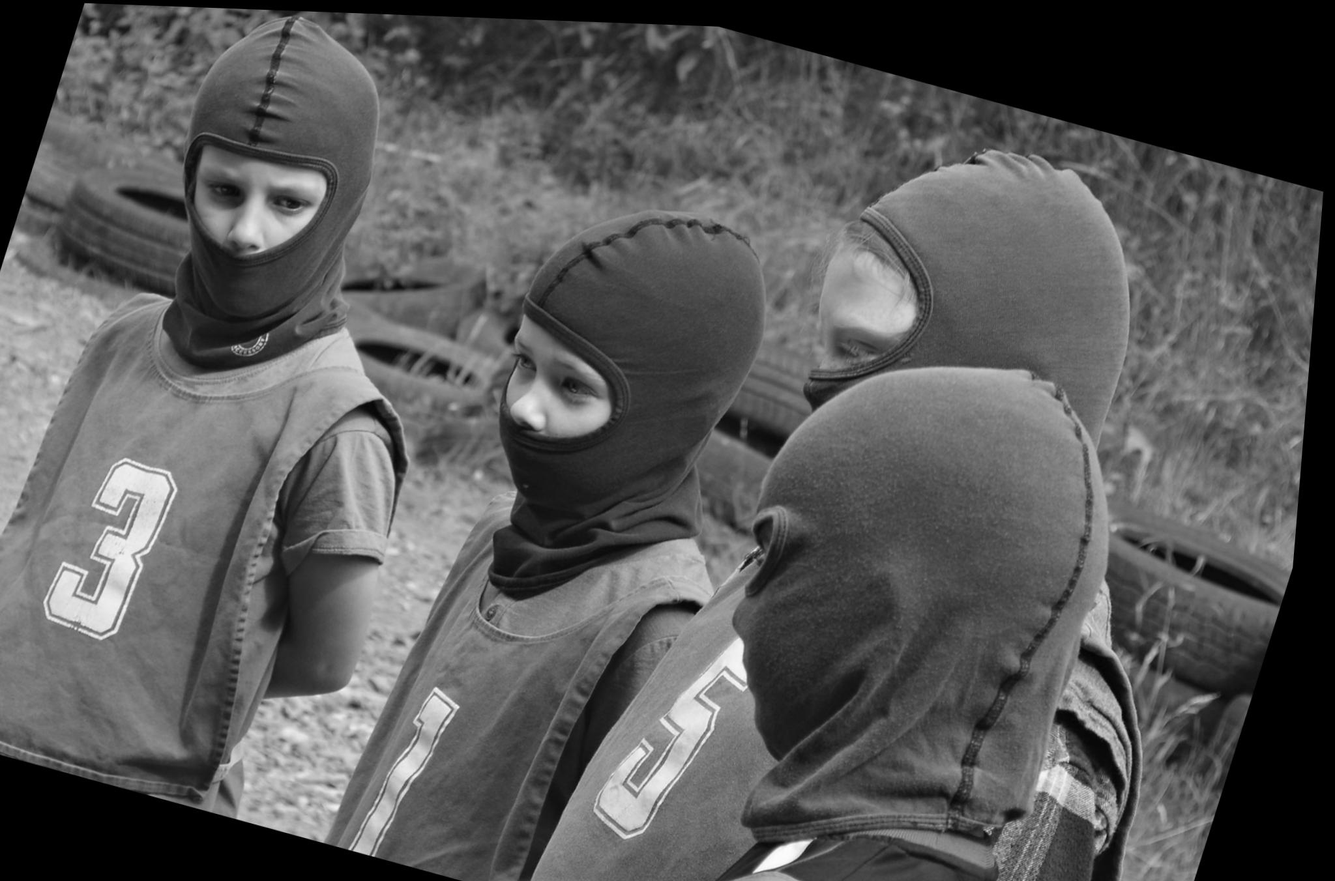OK: (768, 279, 968, 522)
WRONG: (473, 321, 647, 517), (160, 150, 338, 314)
